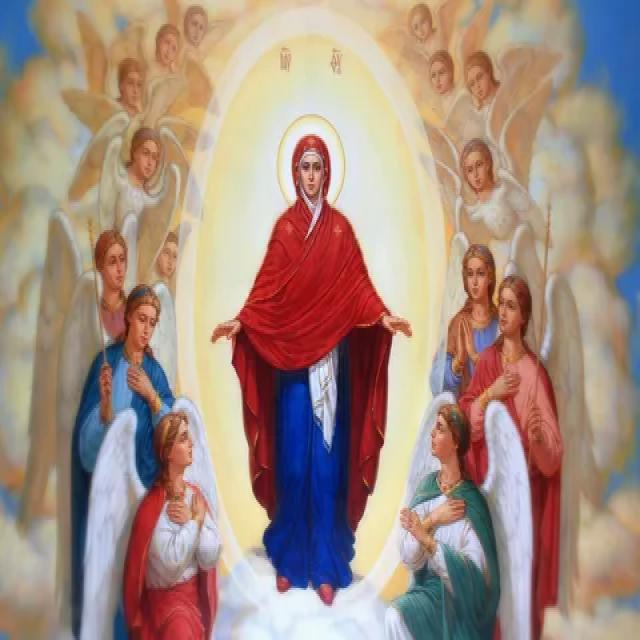mother of god: (219, 126, 398, 616)
